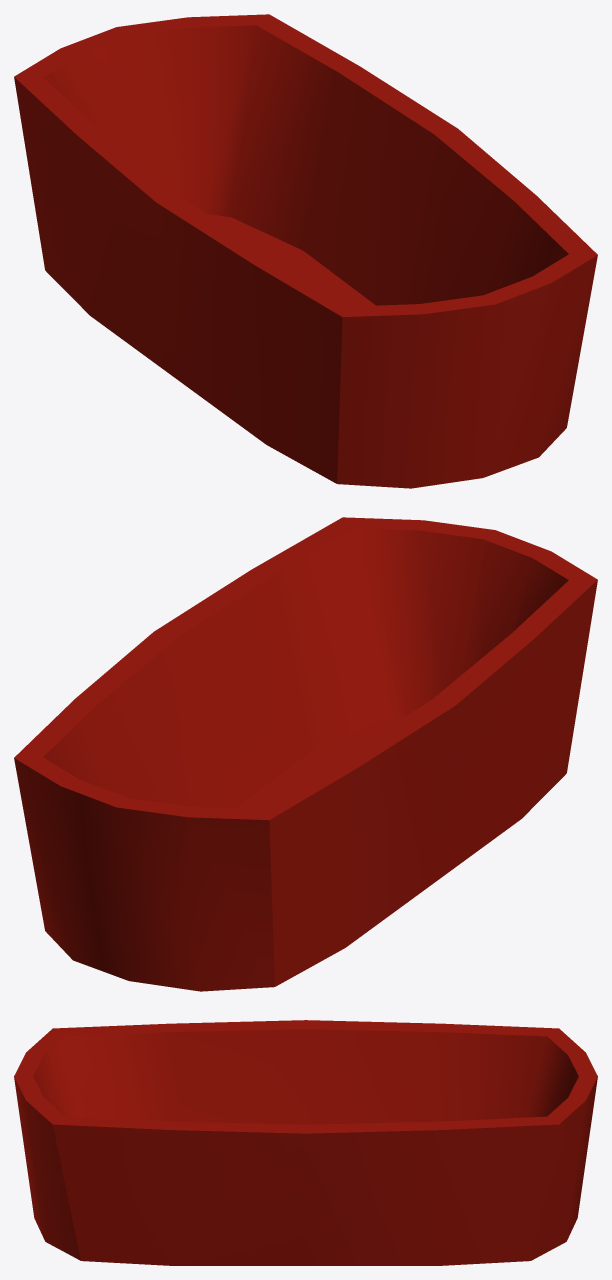
Rendered from P_Baignoire_Colored_Unbreakable.fbx.
The picture shows the model from 3 angles, top to bottom: view 1: azimuth 30°, elevation 25°; view 2: azimuth 150°, elevation 25°; view 3: azimuth 270°, elevation 25°; orthographic projection. The views are drawn at different scales.
Visible parts, largest first — view 1: P_Baignoire_Colored_Unbreakable; view 2: P_Baignoire_Colored_Unbreakable; view 3: P_Baignoire_Colored_Unbreakable.
Part boxes in pixels (x1=…): P_Baignoire_Colored_Unbreakable: x1=14, y1=14, x2=597, y2=488; P_Baignoire_Colored_Unbreakable: x1=14, y1=517, x2=597, y2=991; P_Baignoire_Colored_Unbreakable: x1=14, y1=1020, x2=597, y2=1265.
Size of the model in its own units: 83.72 by 48.6 by 182.
